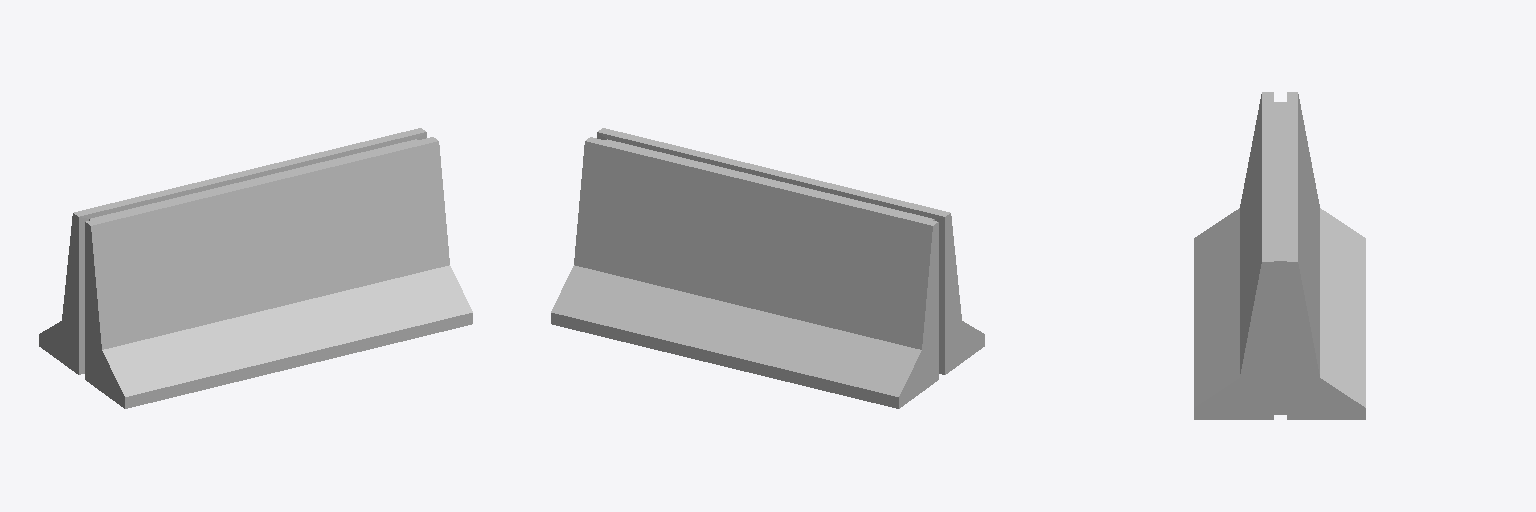
File: Road-Blocker.obj
3 renders of one model, left to right at view 1: azimuth 30°, elevation 25°; view 2: azimuth 150°, elevation 25°; view 3: azimuth 270°, elevation 25°, orthographic.
Visible parts, largest first — view 1: Road-Blocker_Cube; view 2: Road-Blocker_Cube; view 3: Road-Blocker_Cube.
Boxes of the visible parts, <box> form: Road-Blocker_Cube: <box>39,128,472,408</box>; Road-Blocker_Cube: <box>551,128,984,408</box>; Road-Blocker_Cube: <box>1194,92,1365,419</box>.
Bounding box in the file's own units: 4.6 × 2 × 1.97.